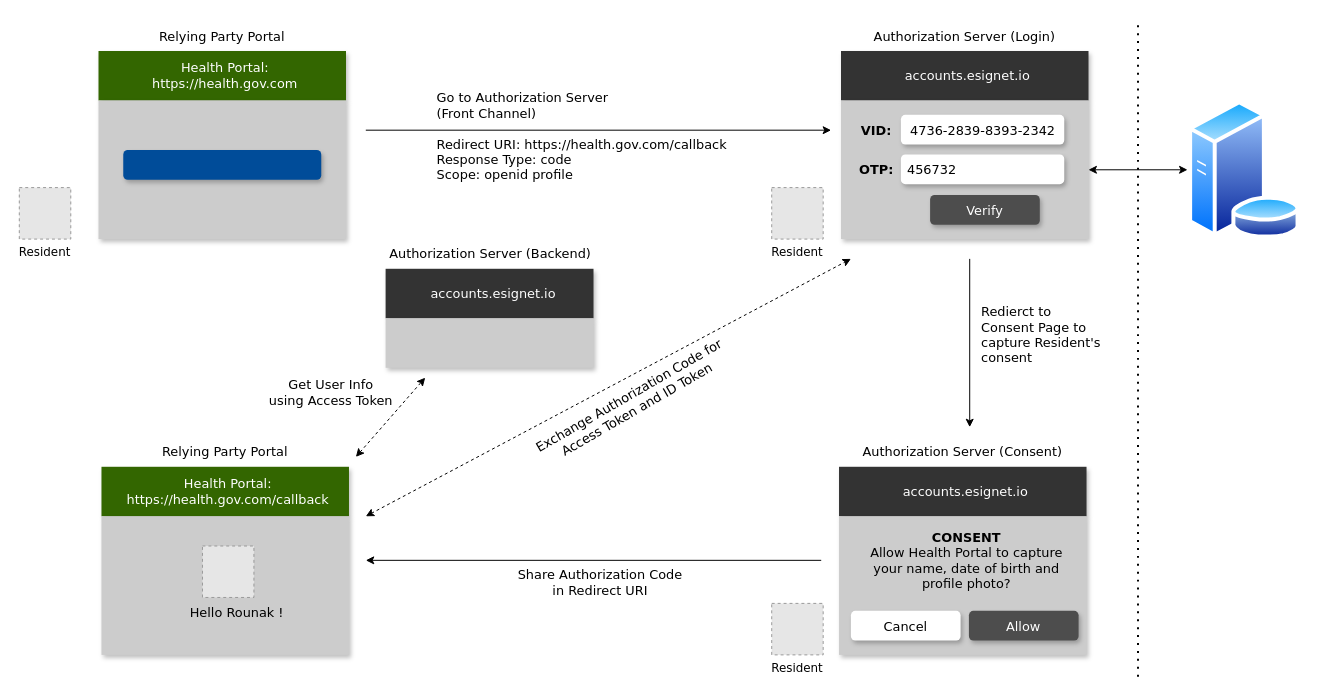
Some shapes in this 1335 by 695 pixel diagram are drawn without their labels. Grey dashed boxes stand in for pictures. The centre of each missing label's shape, as x and y in pixels:
"/userinfo" goes at (x=490, y=344).
"Authentication System" goes at (x=1244, y=169).
"Log in with Signet" goes at (x=223, y=166).
